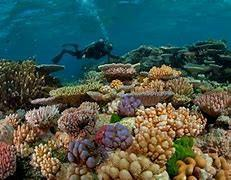bleached_corals: (23, 102, 61, 132), (107, 97, 120, 114)
